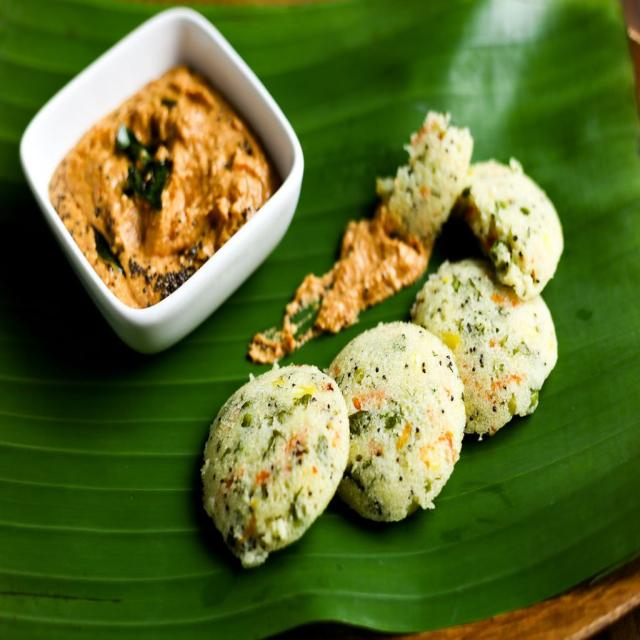rave idli: (195, 356, 357, 568), (328, 317, 468, 529), (419, 255, 566, 435)
